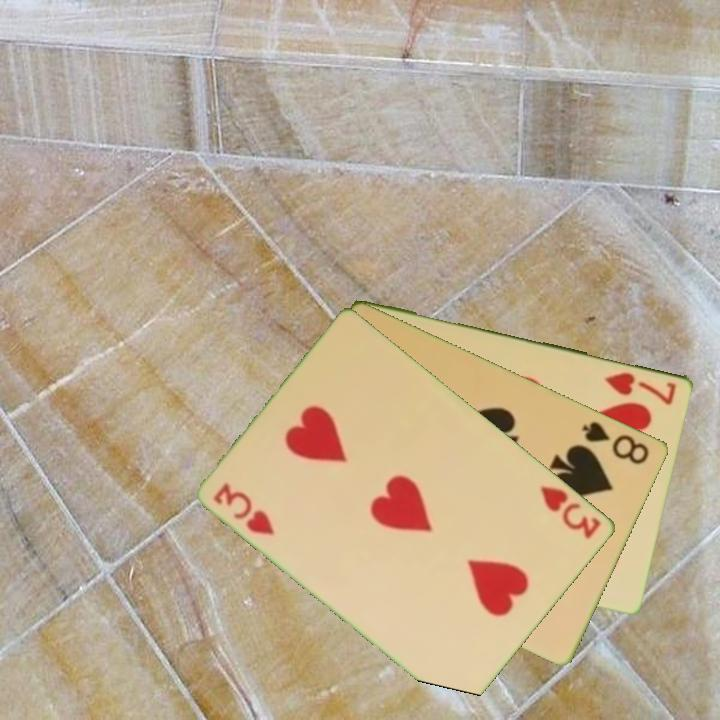3h: (210, 479, 279, 539), (537, 482, 605, 542)
7h: (601, 368, 680, 408)
8s: (578, 417, 653, 467)
